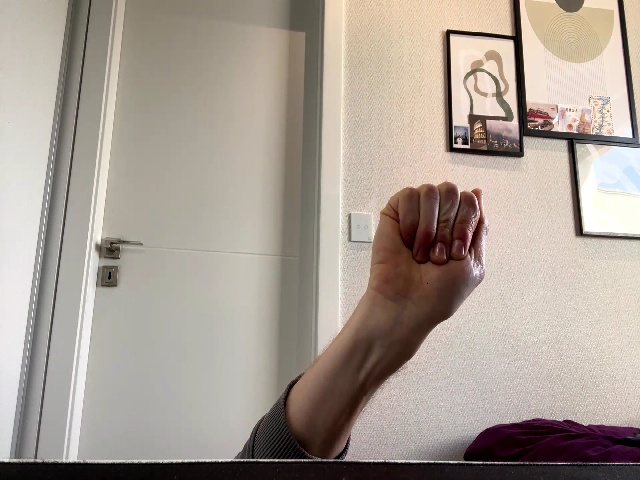A: (366, 182, 489, 327)
